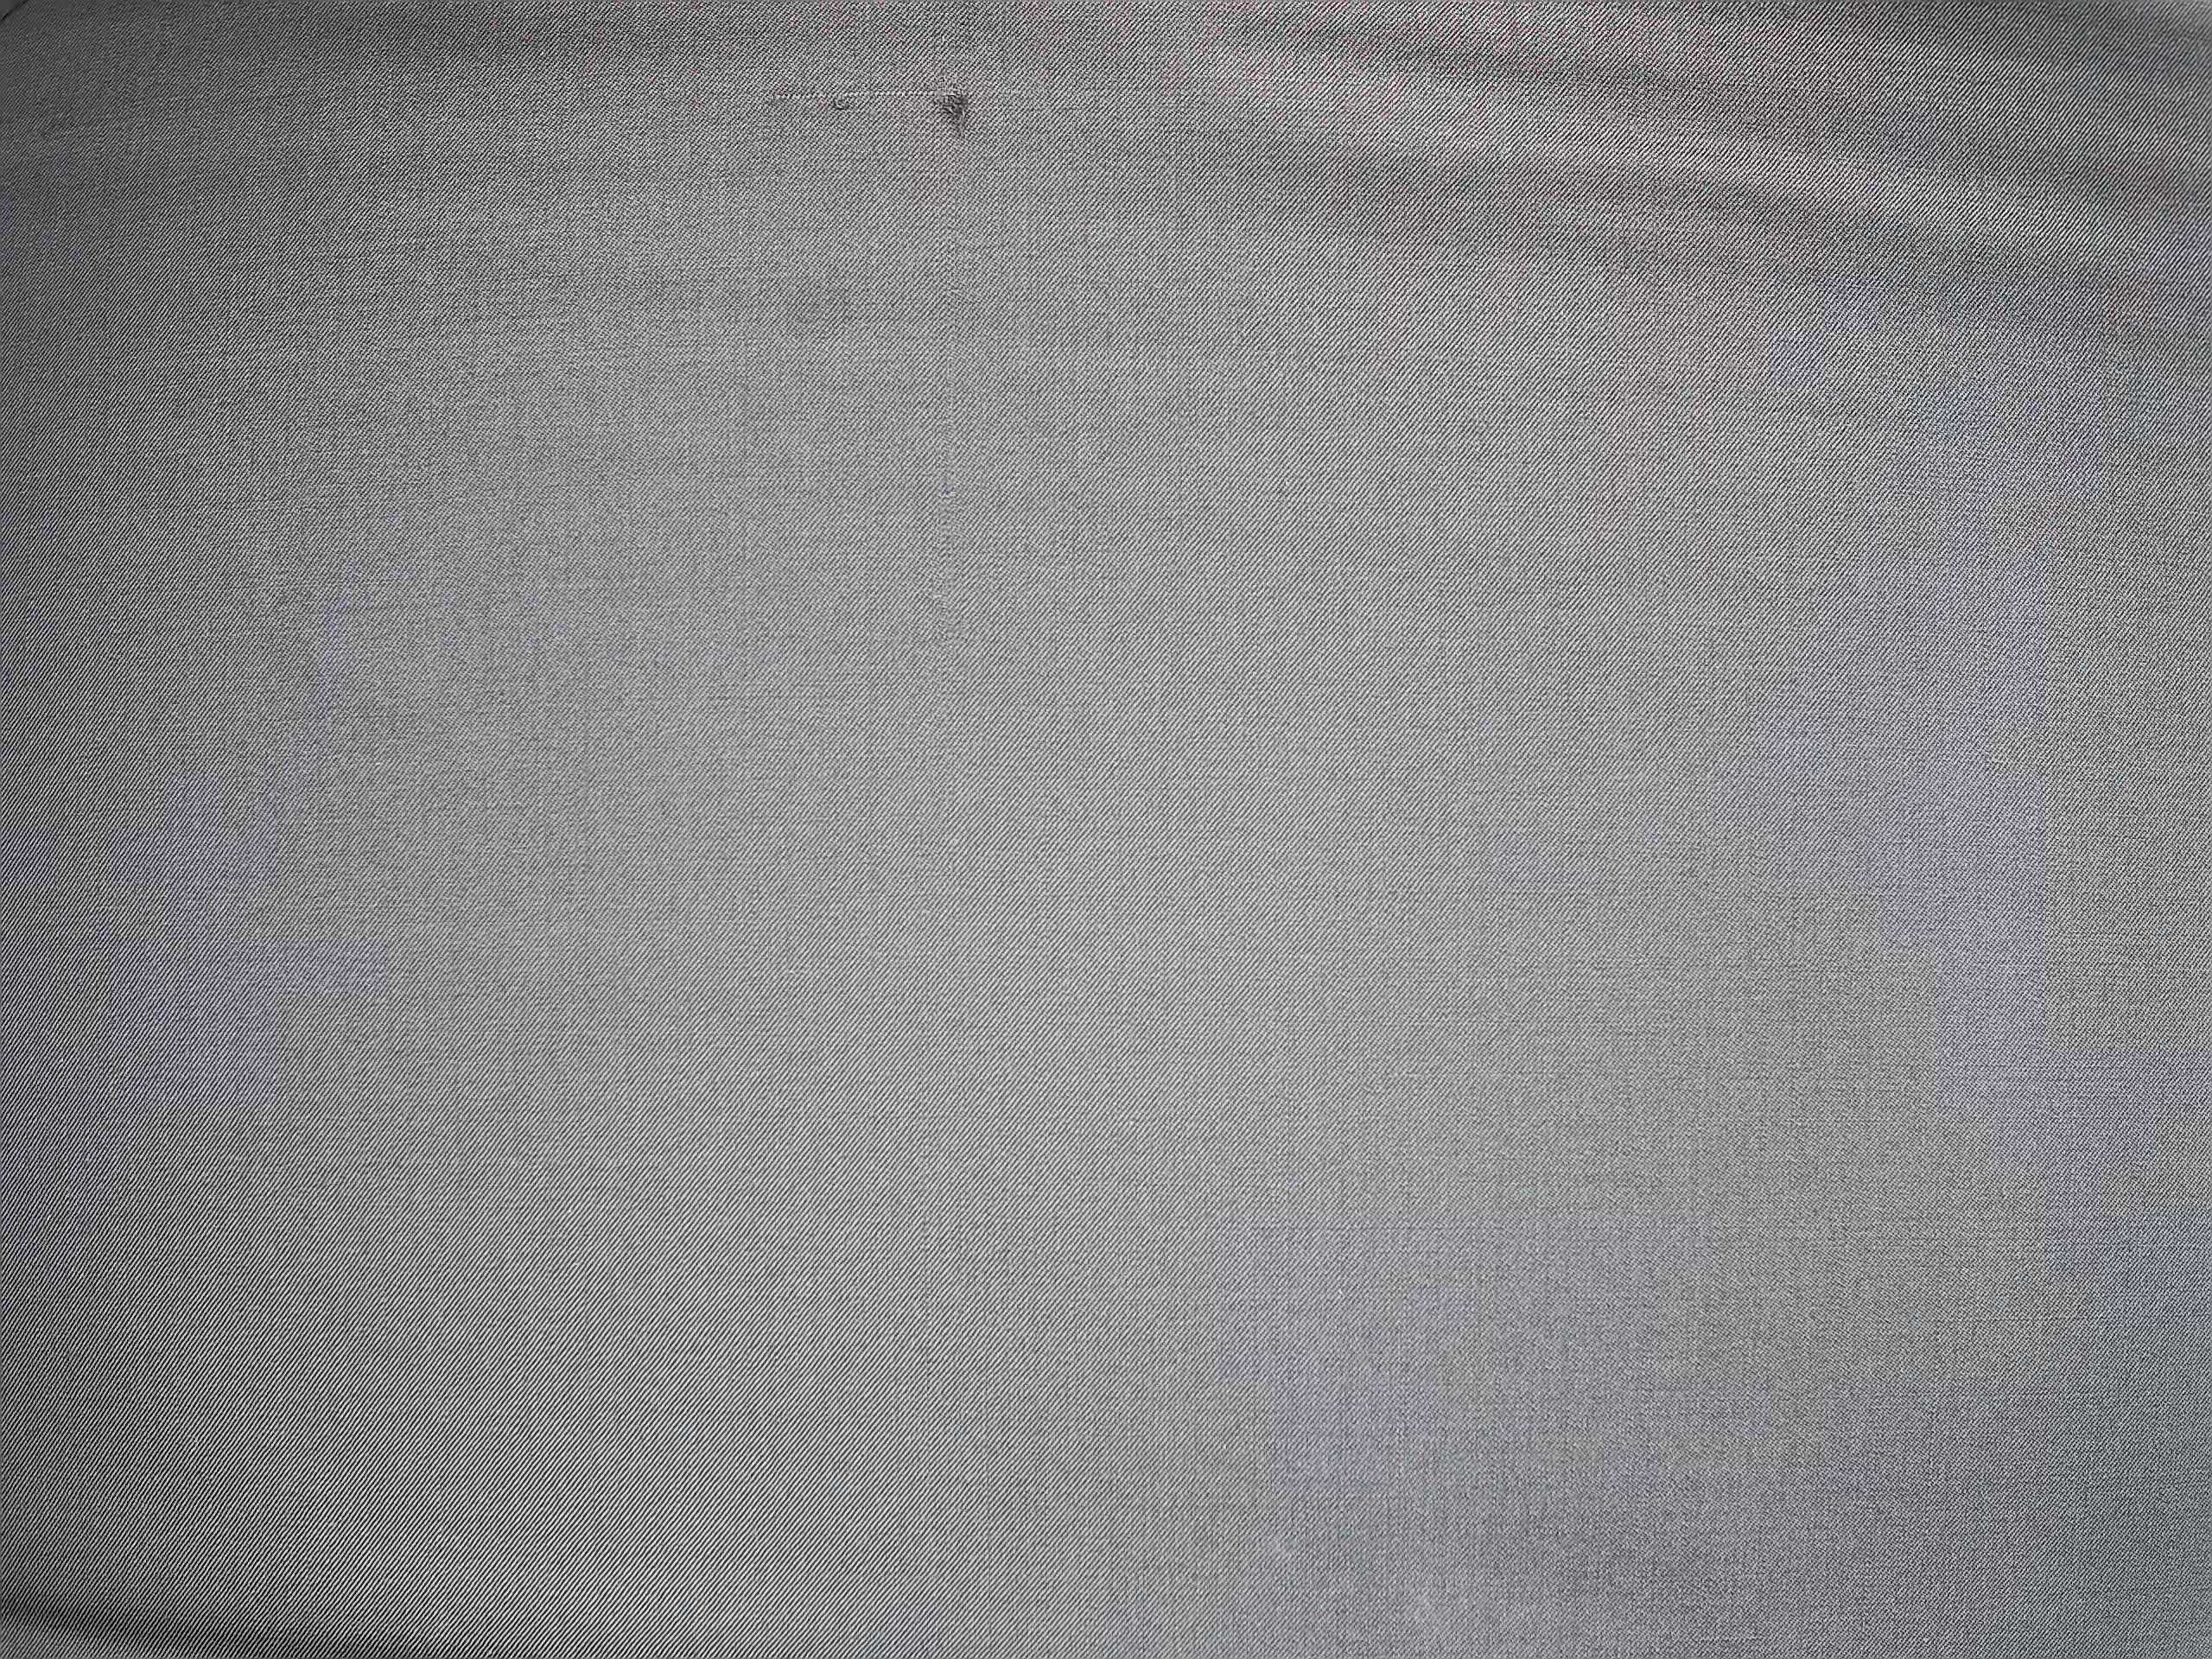hanging-warp: (758, 75, 977, 875)
